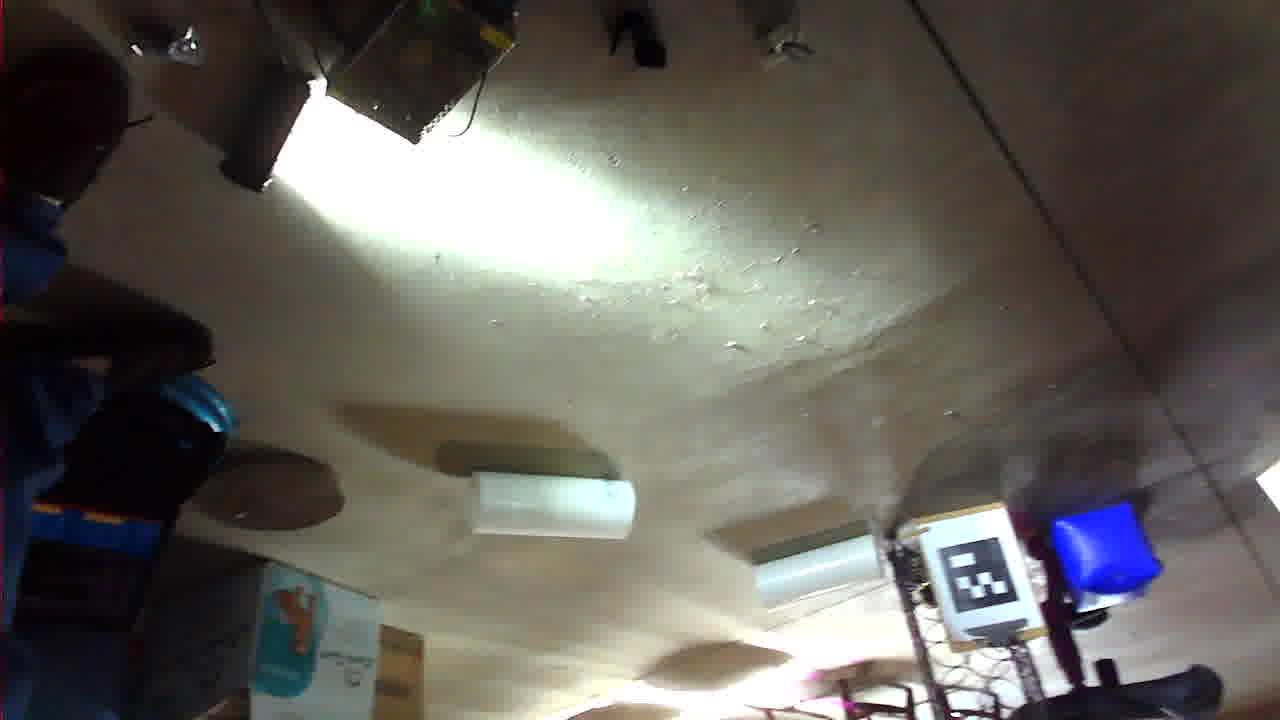coral: (643, 180, 810, 248), (403, 112, 520, 183)
